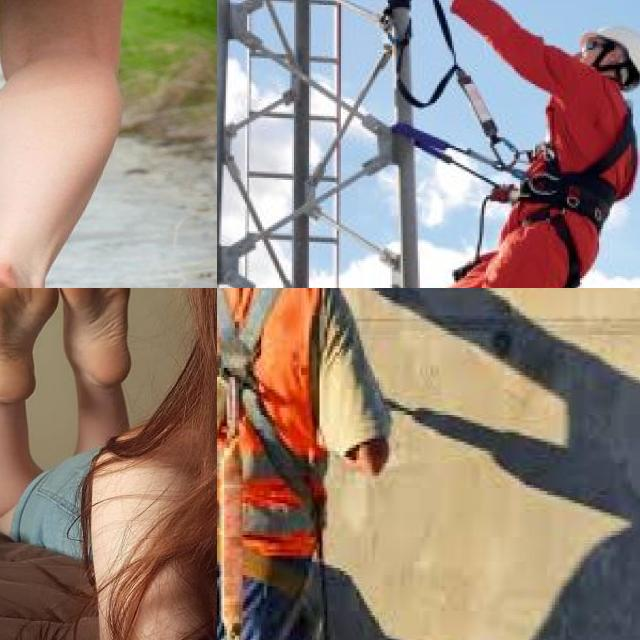Barefoots: (52, 288, 141, 389), (0, 288, 55, 413)
Harness: (217, 288, 331, 640), (517, 97, 635, 288)
